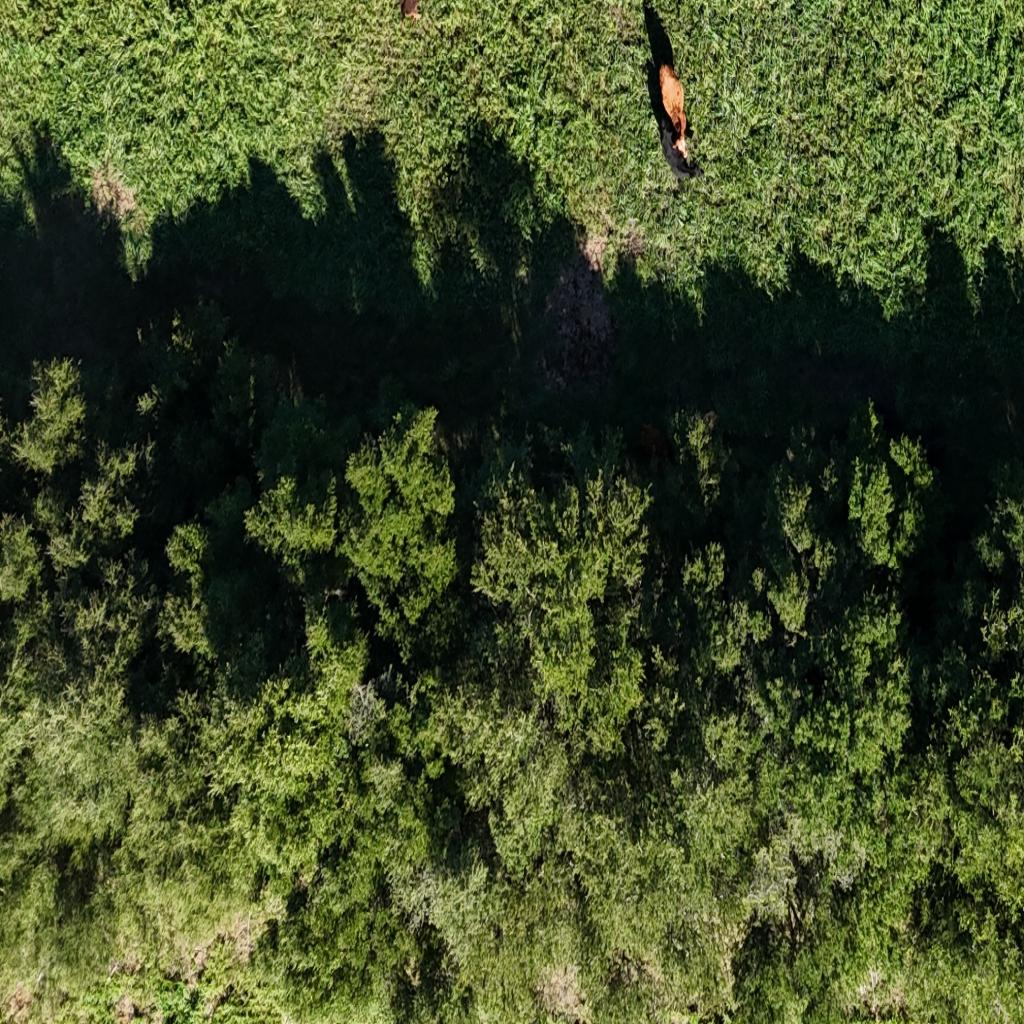cow: (653, 106, 705, 217), (648, 34, 686, 136), (392, 1, 429, 35)
